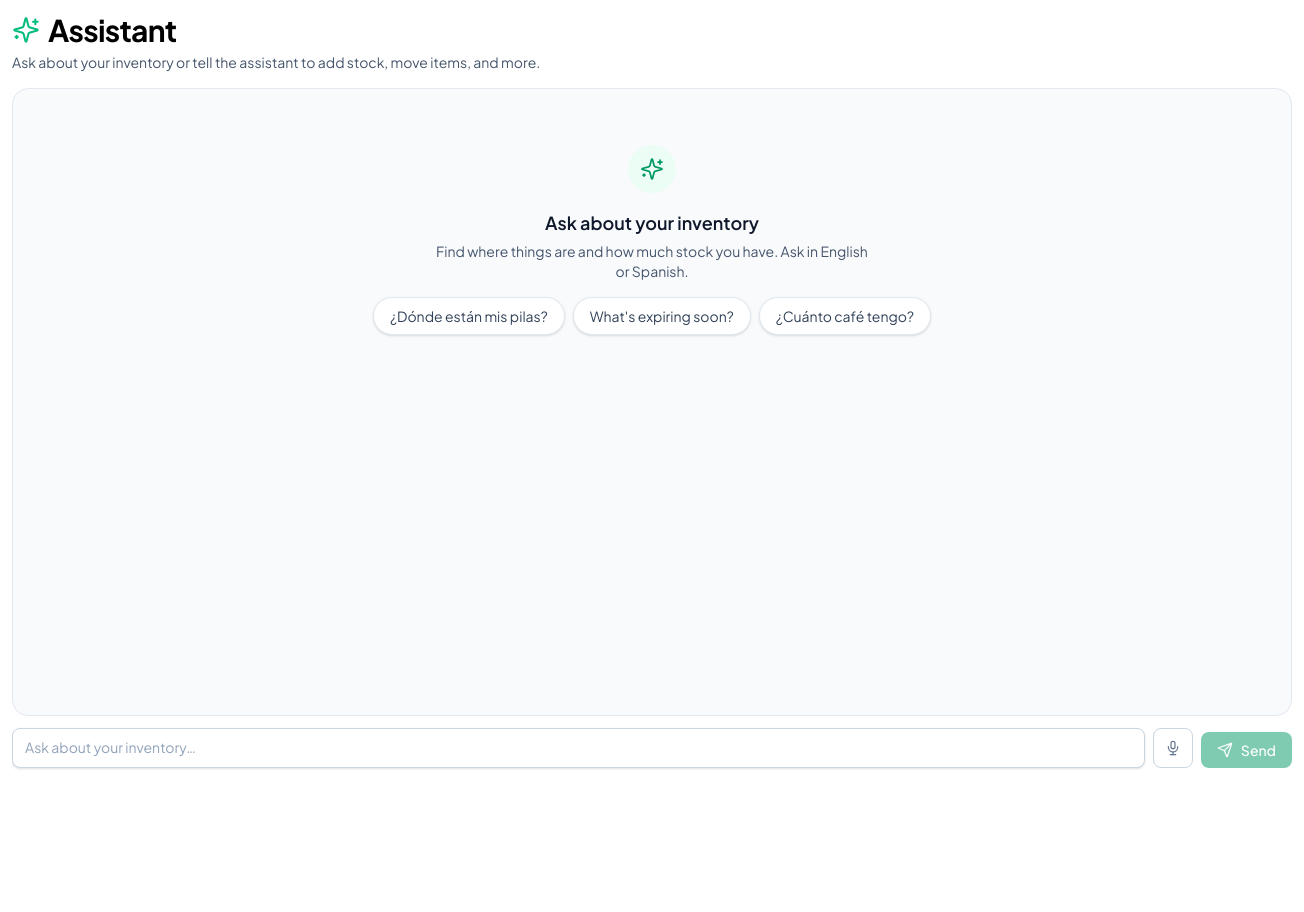
AssistantView › shows the user message and renders the assistant answer
Type "Where are my batteries?" into the text box named "Ask the assistant". click: (578, 748)
box: [12,728,1145,768]
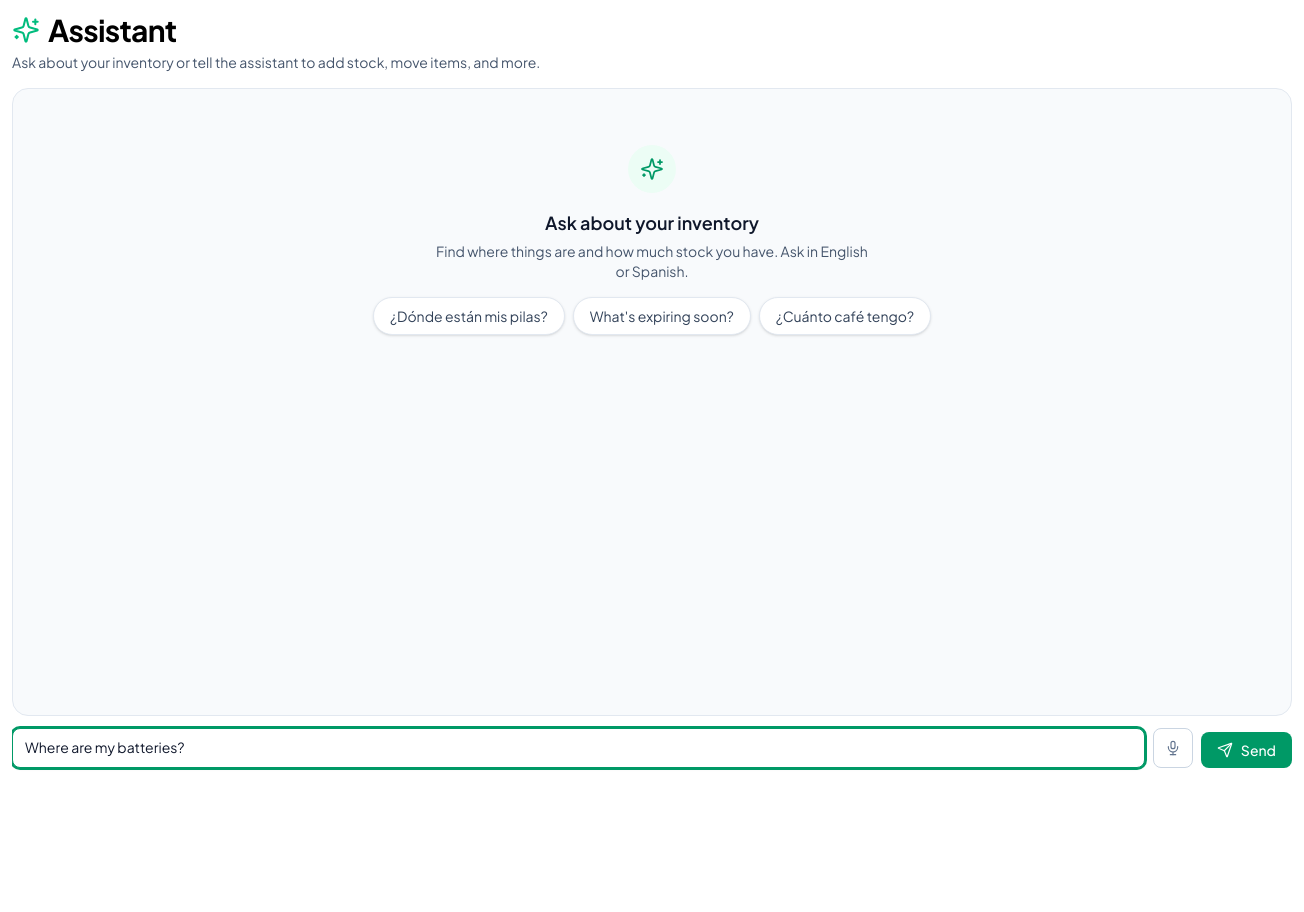
Click the button with aria-label "Send message". click: (1246, 750)
box: [1201,732,1292,768]
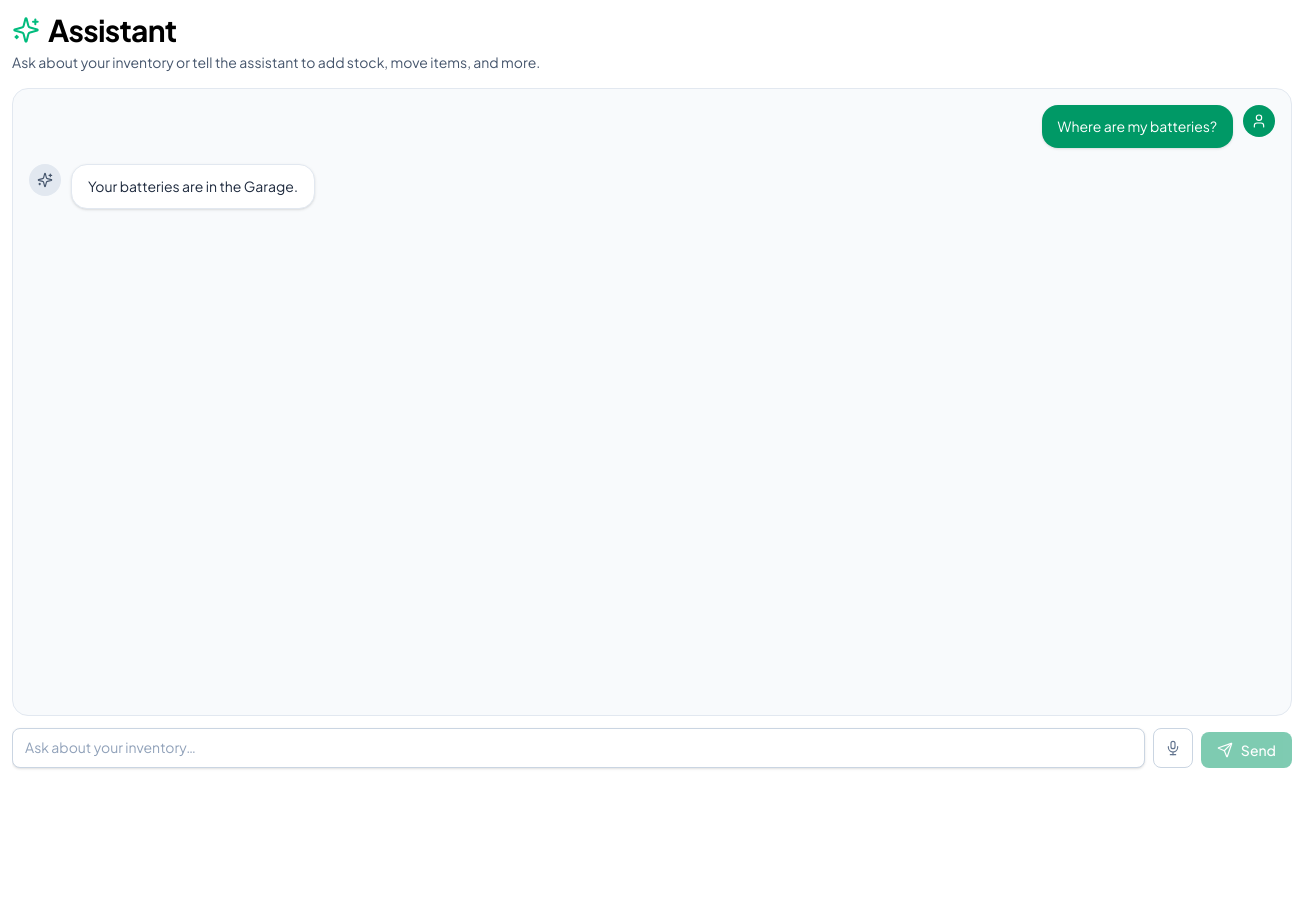
expect the text "Where are my batteries?" is shown: met, box [1058,115,1217,138]
expect the text "Your batteries are in the Garage." is shown: met, box [88,175,298,198]
